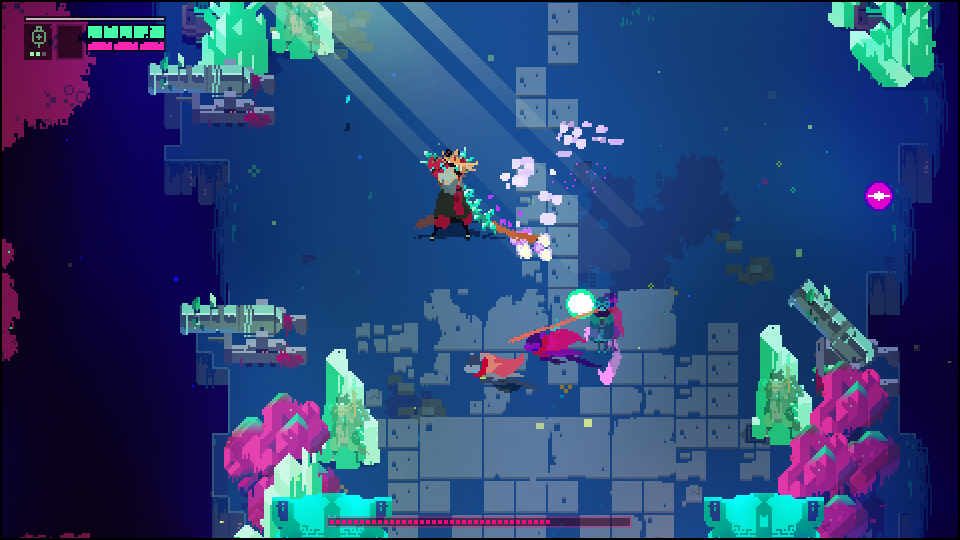hanged_man: (413, 146, 503, 245)
hanged_shot: (564, 288, 600, 323), (863, 180, 893, 215)
player: (462, 347, 528, 386)
